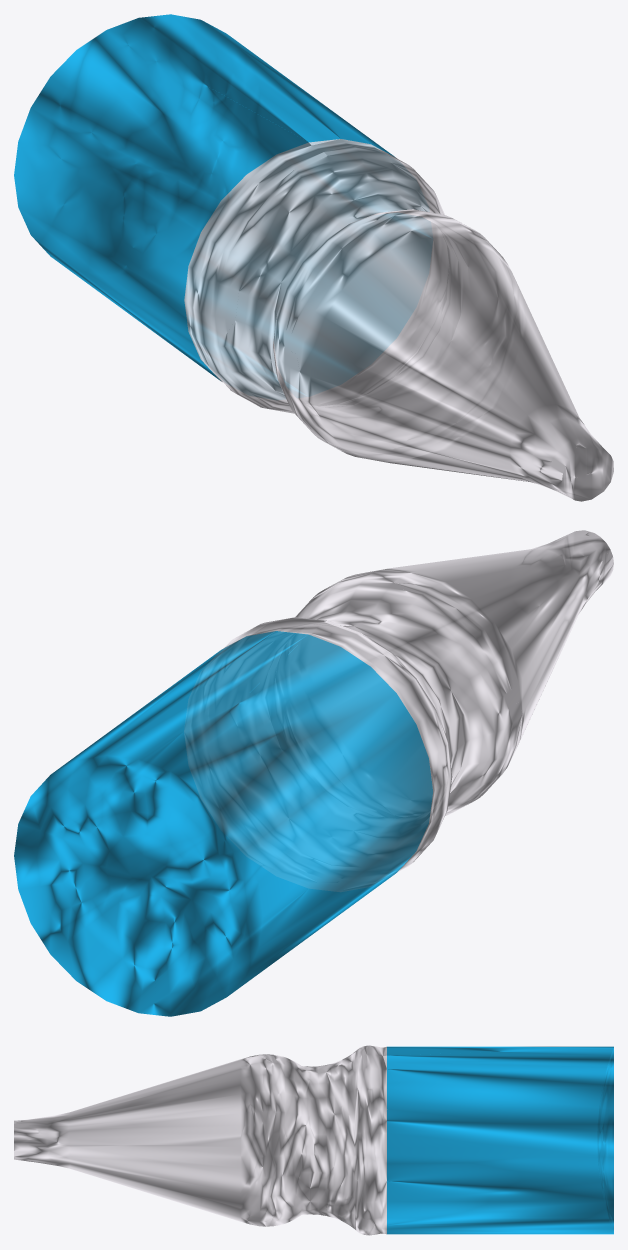
File: model_align.obj
The picture shows the model from 3 angles, top to bottom: view 1: azimuth 30°, elevation 25°; view 2: azimuth 150°, elevation 25°; view 3: azimuth 270°, elevation 25°; orthographic projection. The views are drawn at different scales.
Bounding box in the file's own units: 0.0633 × 0.0616 × 0.1951.
